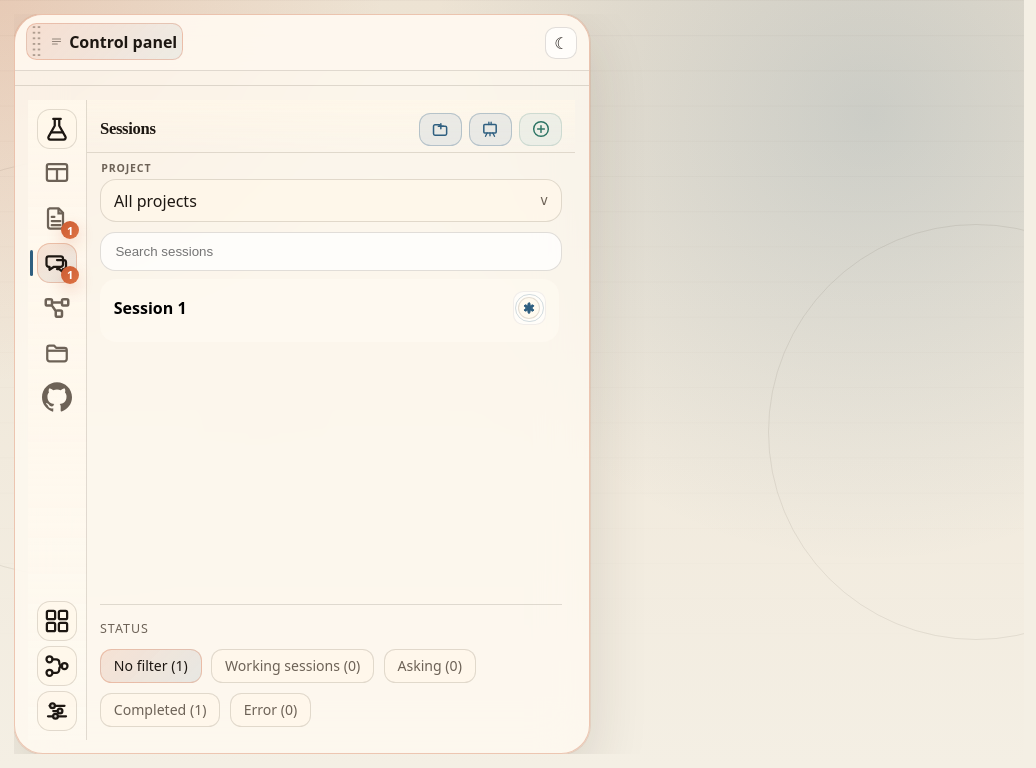
App session lifecycle › arms the active-prompt poll when an adopted send response is still active
Click the button "Session 1" at (150, 308), box [100,279,559,342]
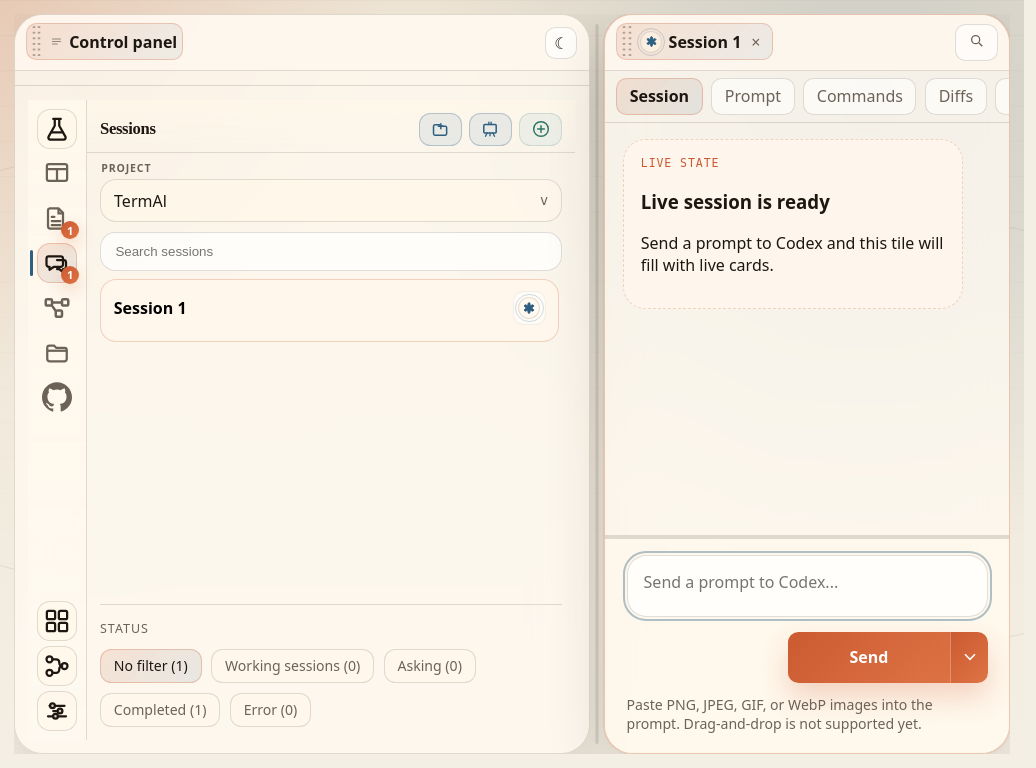
Type "Keep working" into the text box named "Message Session 1" at (807, 586), box [627,555,988,617]
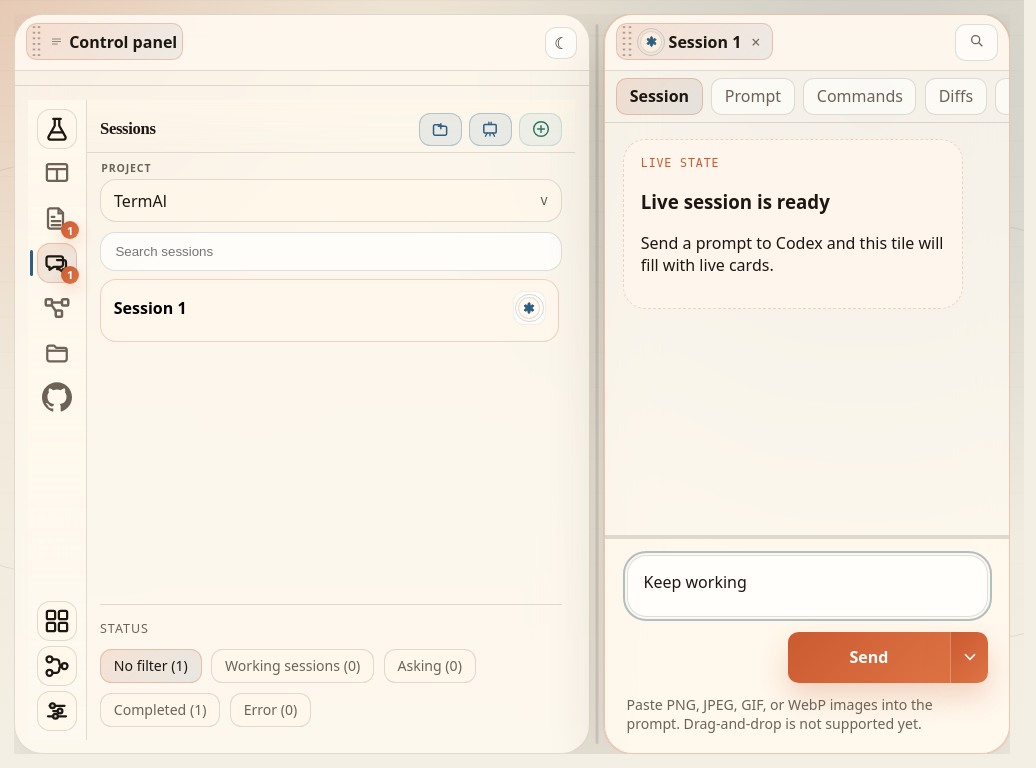
Click the button "Send" at (869, 657), box [788,632,950,683]
Wait 30009 ms
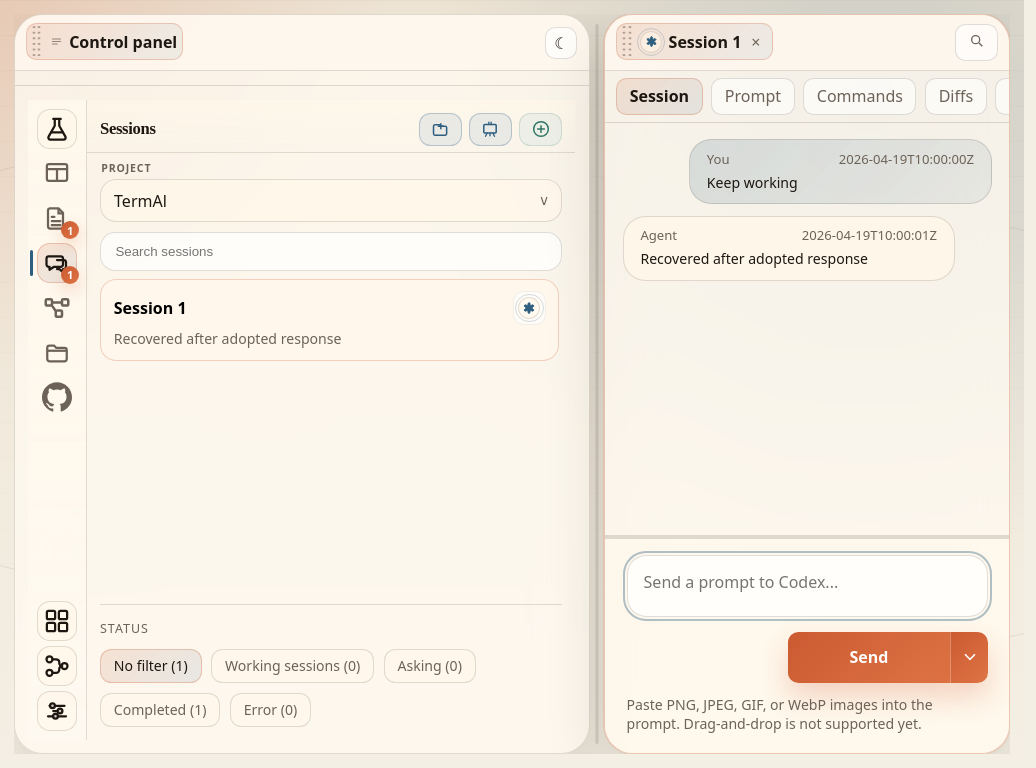
Expected: the text box named "Message Session 1" is empty, [627,555,988,617]
Expected: the text "Recovered after adopted response" below "Project" is shown, [114,329,342,348]
